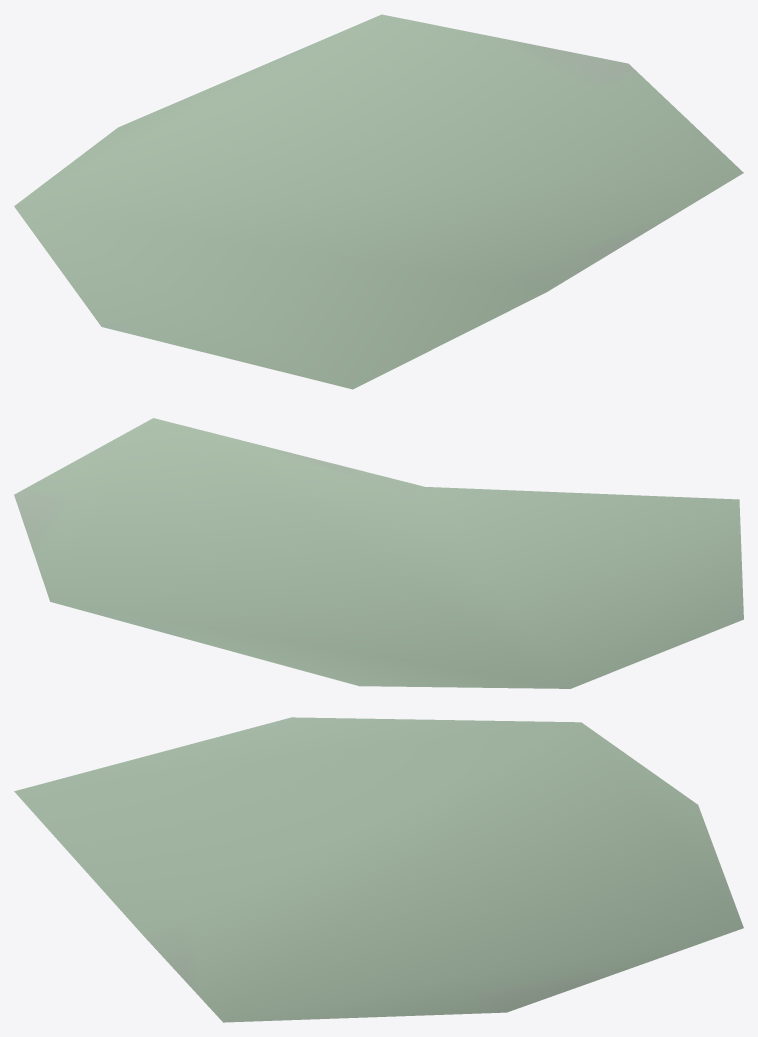
File: TROLLHOLE02_HOLECAP41.fbx
3 views of the same model, one above another, from view 1: azimuth 30°, elevation 25°; view 2: azimuth 150°, elevation 25°; view 3: azimuth 270°, elevation 25° (orthographic). The views are drawn at different scales.
Visible parts, largest first — view 1: TROLLHOLE02_HOLECAP41; view 2: TROLLHOLE02_HOLECAP41; view 3: TROLLHOLE02_HOLECAP41.
Boxes of the visible parts, <box> form: TROLLHOLE02_HOLECAP41: <box>14,14,743,389</box>; TROLLHOLE02_HOLECAP41: <box>14,418,743,688</box>; TROLLHOLE02_HOLECAP41: <box>14,717,743,1022</box>.
Size of the model in its own units: 18133 by 1596 by 16389.
1 material, 1 textured.
